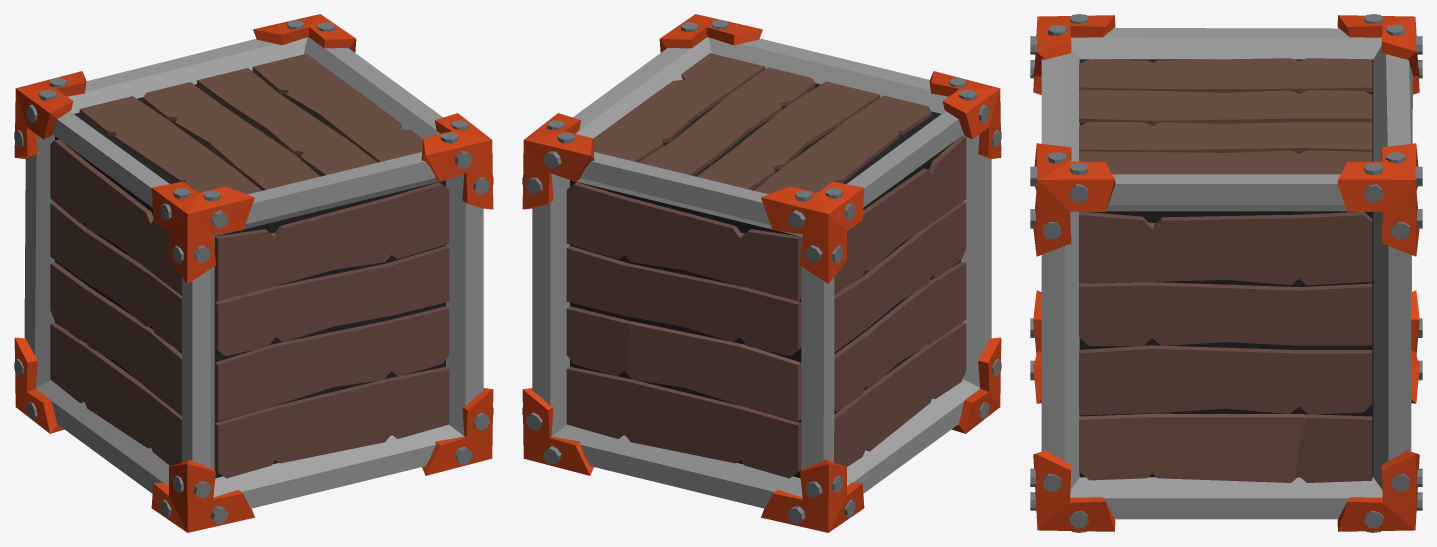
The model's file is caja.glb.
3 renders of one model, left to right at view 1: azimuth 30°, elevation 25°; view 2: azimuth 150°, elevation 25°; view 3: azimuth 270°, elevation 25°, orthographic. The views are drawn at different scales.
Visible parts, largest first — view 1: Cube; view 2: Cube; view 3: Cube.
Boxes of the visible parts, x1,y1,x2,y2 form: Cube: [14, 14, 493, 532]; Cube: [522, 14, 1001, 532]; Cube: [1030, 14, 1422, 532].
Bounding box in the file's own units: 2.15 × 2.16 × 2.12.
1 material, 1 textured.
